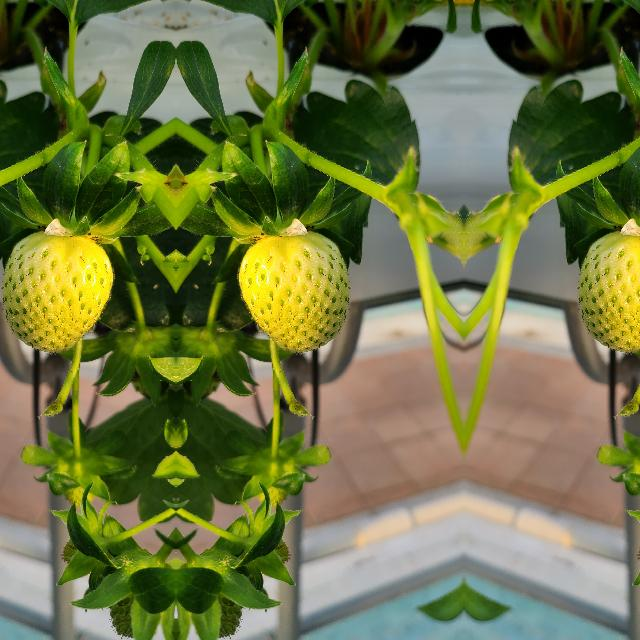Health_25: (236, 230, 350, 356), (0, 230, 114, 355), (575, 230, 640, 355)
